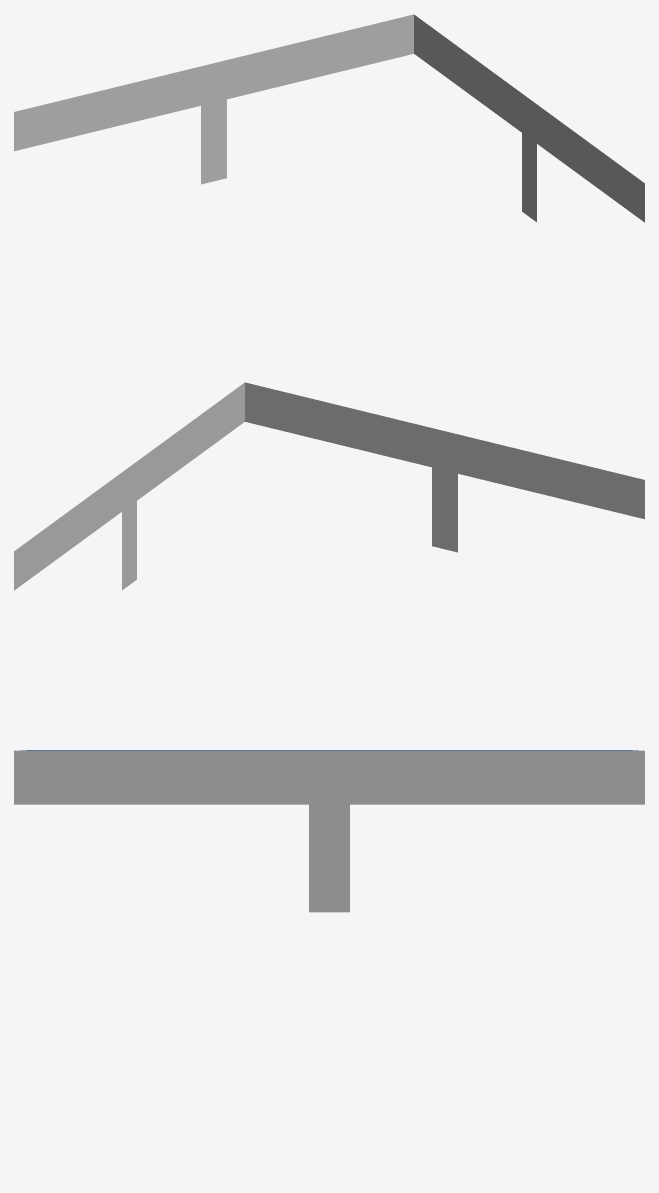
Rendered from ceiling_2x2.glb.
3 views of the same model, one above another, from view 1: azimuth 30°, elevation 25°; view 2: azimuth 150°, elevation 25°; view 3: azimuth 270°, elevation 25° (orthographic). The views are drawn at different scales.
Parts seen in each view (by area): view 1: Ceiling_2x2-col; view 2: Ceiling_2x2-col; view 3: Ceiling_2x2-col.
Boxes of the visible parts, x1=… form: Ceiling_2x2-col: x1=14, y1=14, x2=644, y2=222; Ceiling_2x2-col: x1=14, y1=382, x2=644, y2=590; Ceiling_2x2-col: x1=14, y1=750, x2=644, y2=912.
Size of the model in its own units: 42.5 by 12.53 by 42.5.
